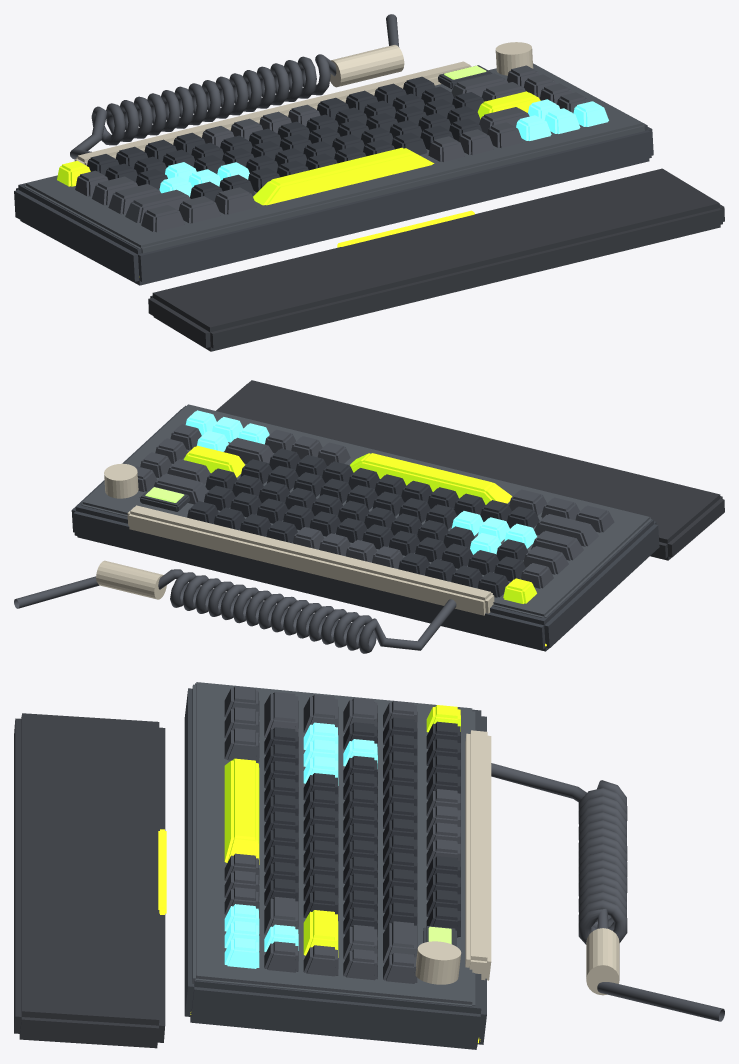
Rendered from gaming_keyboard.glb.
3 renders of one model, top to bottom at view 1: azimuth 30°, elevation 25°; view 2: azimuth 150°, elevation 25°; view 3: azimuth 270°, elevation 25°, orthographic. The views are drawn at different scales.
Parts seen in each view (by area): view 1: KB_WristRest, KB_Chassis, KB_TopFrame, KB_CoiledCable, Key_Space, KB_WeightBar, KB_AviatorConnector, KB_RotaryKnob, Key_LShift, Key_LCtrl, Key_LAlt, Key_Win (+13 smaller); view 2: KB_WristRest, KB_Chassis, KB_CoiledCable, KB_WeightBar, KB_TopFrame, Key_Space, KB_AviatorConnector, Key_LShift, KB_RotaryKnob, Key_Enter, Key_Backspace, Key_Caps (+76 smaller); view 3: KB_WristRest, KB_TopFrame, KB_Chassis, KB_CoiledCable, KB_WeightBar, Key_Space, KB_AviatorConnector, KB_RotaryKnob, Key_Enter, Key_LShift, Key_Backspace, Key_LAlt (+77 smaller).
Part boxes in pixels (x1,y1,x2,y2): KB_WristRest: (148,168,724,351); KB_Chassis: (14,93,653,285); KB_TopFrame: (23,63,645,253); KB_CoiledCable: (70,14,399,159); Key_Space: (253,147,434,205); KB_WeightBar: (74,61,471,165); KB_AviatorConnector: (330,45,404,87); KB_RotaryKnob: (495,42,533,75); Key_LShift: (125,189,190,223); Key_LCtrl: (141,205,184,232); Key_LAlt: (214,187,256,214); Key_Win: (178,196,220,223); KB_WristRest: (216,380,724,560); KB_Chassis: (71,405,659,651); KB_CoiledCable: (14,569,456,653); KB_WeightBar: (127,505,494,615); KB_TopFrame: (80,404,651,617); Key_Space: (350,453,512,504); KB_AviatorConnector: (96,560,166,599); Key_LShift: (534,514,598,546); KB_RotaryKnob: (104,463,138,498); Key_Enter: (183,445,244,477); Key_Backspace: (153,473,208,504); Key_Caps: (531,530,583,560); KB_WristRest: (14,713,165,1048); KB_TopFrame: (192,682,475,1006); KB_Chassis: (184,683,486,1049); KB_CoiledCable: (491,763,724,1021); KB_WeightBar: (465,730,491,980); Key_Space: (224,758,259,864); KB_AviatorConnector: (586,928,619,995); KB_RotaryKnob: (415,941,461,984); Key_Enter: (303,910,338,957); Key_LShift: (264,692,298,737); Key_Backspace: (383,921,417,963); Key_LAlt: (224,728,259,762).
Size of the model in its own units: 0.344 by 0.0454 by 0.3407.
